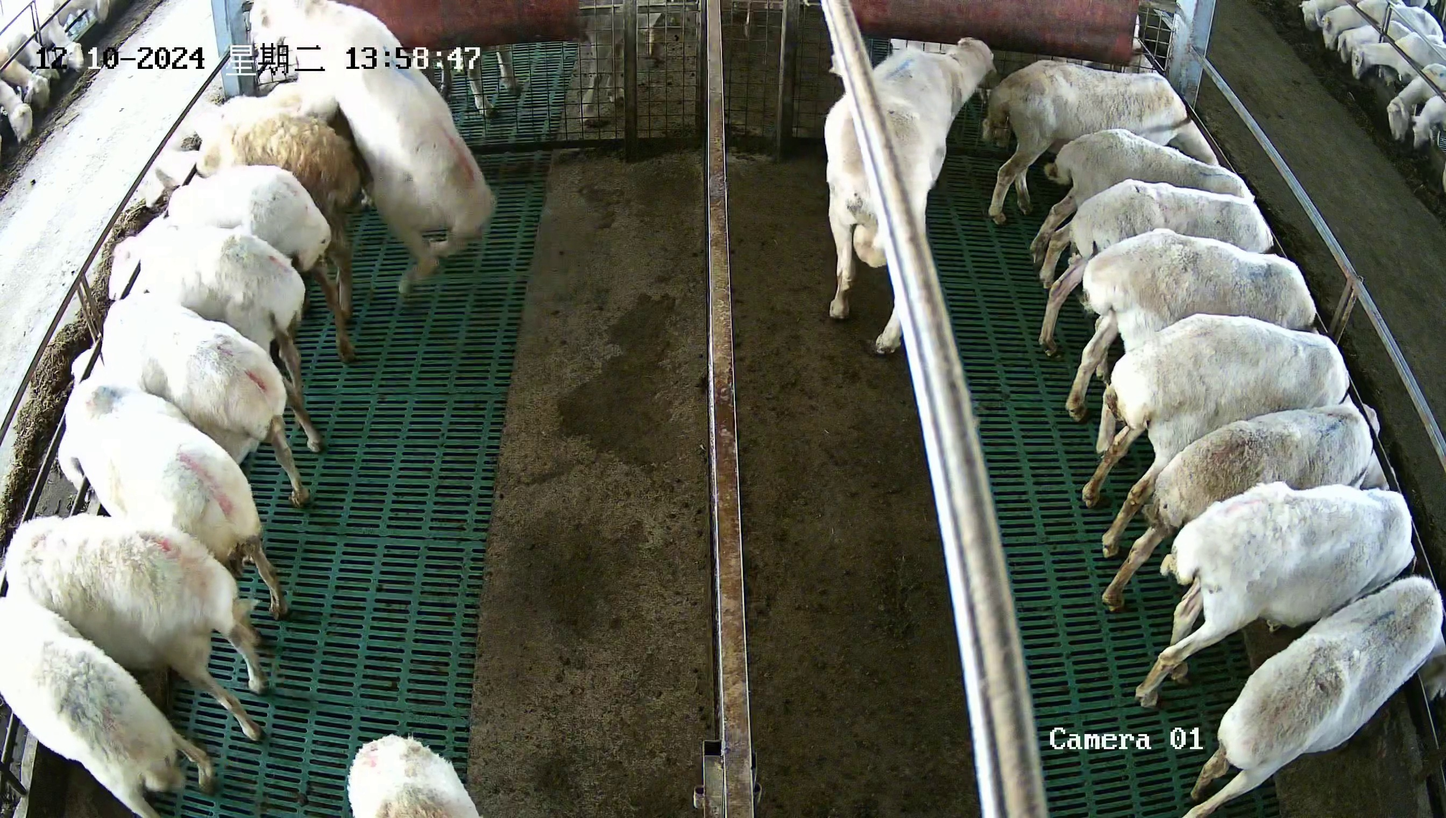Nmounting: (219, 1, 500, 295)
